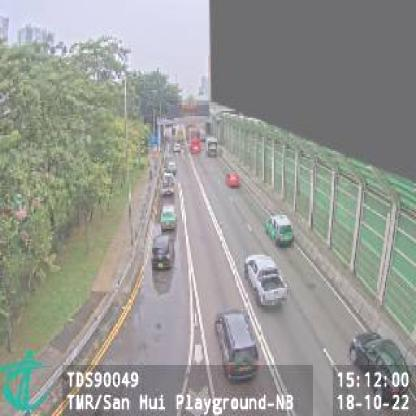Car: (348, 330, 413, 395), (214, 309, 261, 382), (243, 252, 290, 309), (265, 213, 296, 249), (150, 233, 175, 270), (161, 202, 177, 232), (161, 171, 176, 197), (224, 171, 242, 190), (171, 141, 181, 154), (167, 160, 177, 173)
Truck: (207, 136, 220, 158)
